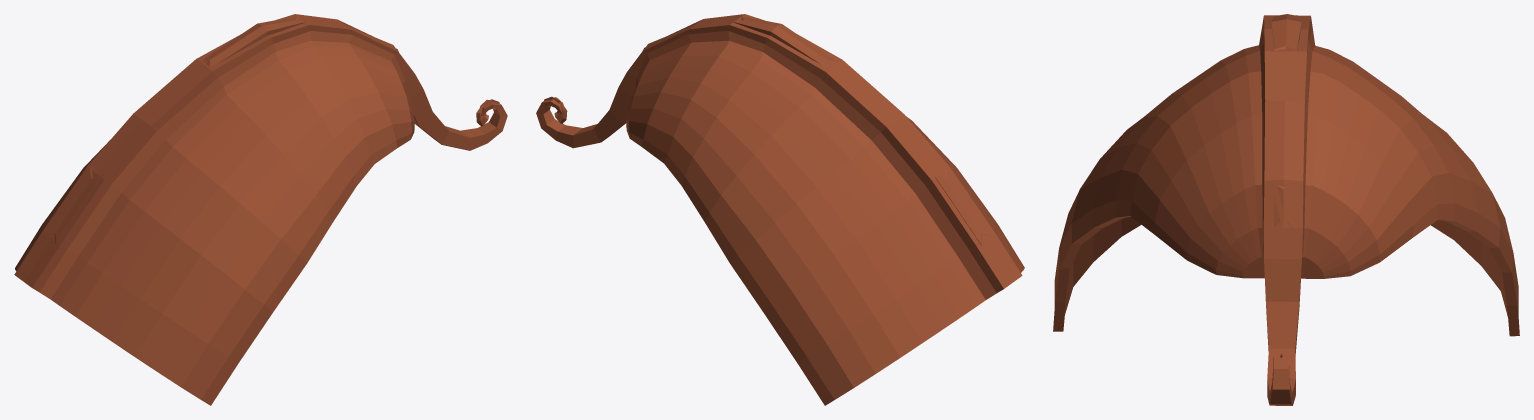
File: shipwreck.glb
3 renders of one model, left to right at view 1: azimuth 30°, elevation 25°; view 2: azimuth 150°, elevation 25°; view 3: azimuth 270°, elevation 25°, orthographic. The views are drawn at different scales.
Parts seen in each view (by area): view 1: Plane.002; view 2: Plane.002; view 3: Plane.002.
Boxes of the visible parts, left/top/right/bottom form: Plane.002: left=14, top=14, right=507, bottom=405; Plane.002: left=536, top=14, right=1024, bottom=405; Plane.002: left=1053, top=14, right=1519, bottom=405.
Bounding box in the file's own units: 7.58 × 4.36 × 4.53.
